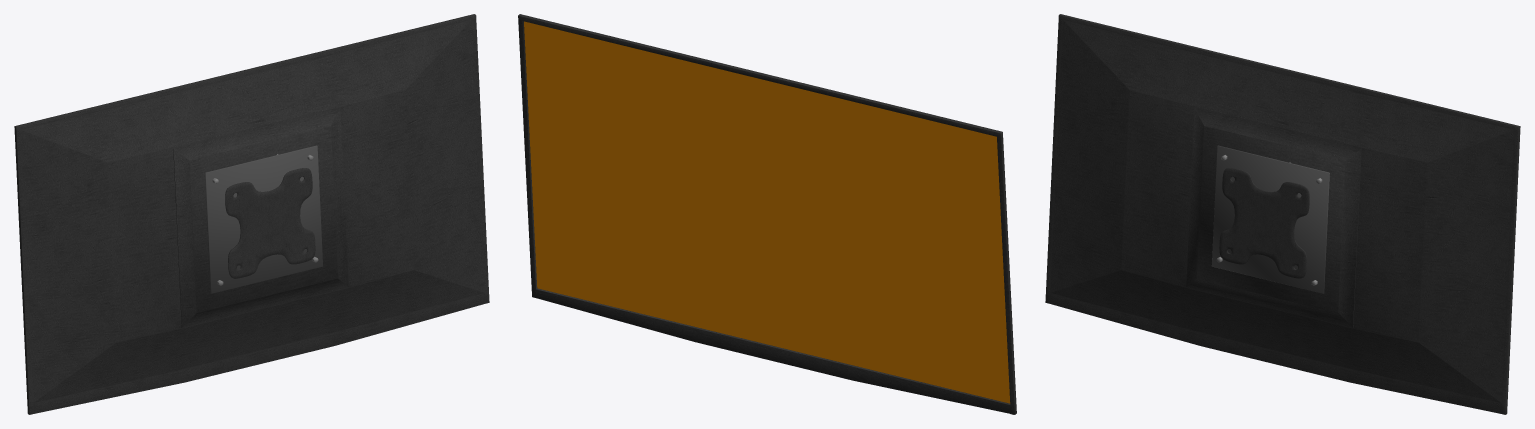
The model's file is CIC_BigScreenTest.fbx.
3 renders of one model, left to right at view 1: azimuth 30°, elevation 25°; view 2: azimuth 150°, elevation 25°; view 3: azimuth 330°, elevation 25°, orthographic. The views are drawn at different scales.
Visible parts, largest first — view 1: CIC_BigScreen; view 2: CIC_BigScreen; view 3: CIC_BigScreen.
Boxes of the visible parts, x1,y1,x2,y2 form: CIC_BigScreen: (14, 14, 489, 414); CIC_BigScreen: (518, 14, 1016, 414); CIC_BigScreen: (1045, 14, 1520, 414).
Bounding box in the file's own units: 4.87 × 2.87 × 0.5219.
